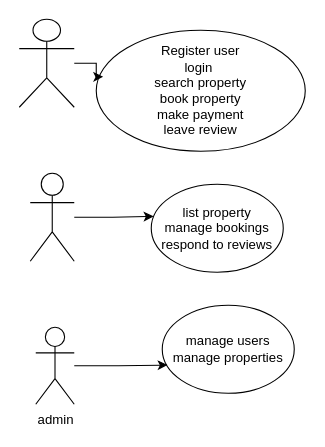
Some shapes in this 325 by 447 pixel diagram are drawn without their labels. The shapes that lost their labels are listed below. From the top down, each one's centre as x and y in pixels, then its label:
the point at 46,62: user
the point at 51,216: host
